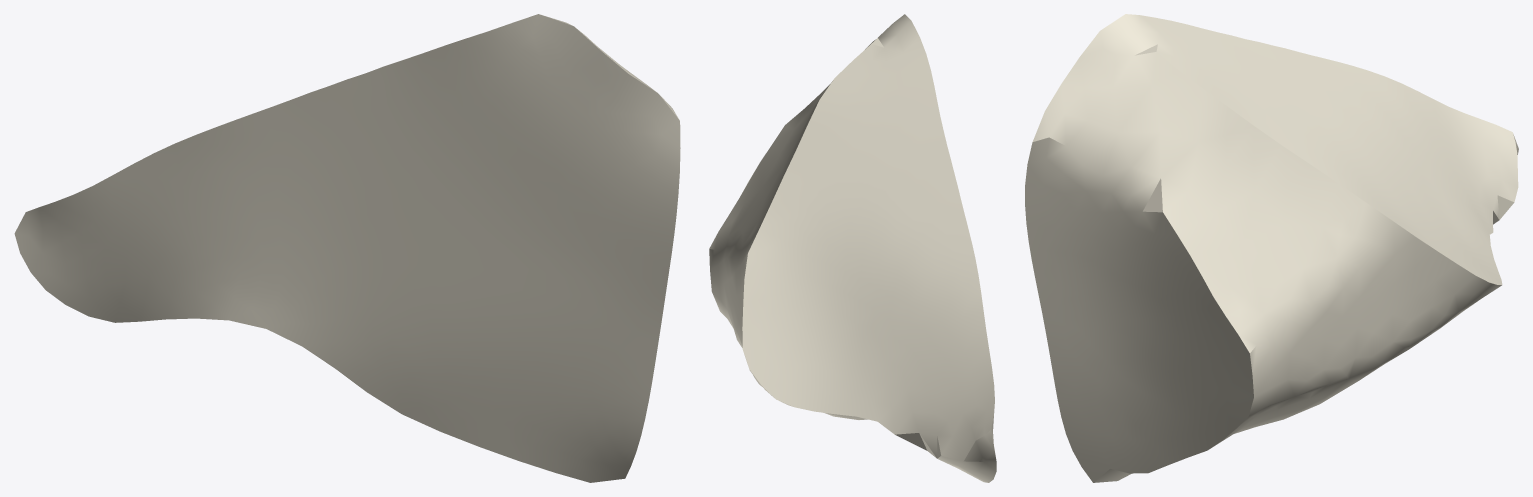
File: fma16333_mm2357.glb
3 renders of one model, left to right at view 1: azimuth 30°, elevation 25°; view 2: azimuth 150°, elevation 25°; view 3: azimuth 270°, elevation 25°, orthographic. The views are drawn at different scales.
Parts seen in each view (by area): view 1: FMA16333_MM2357; view 2: FMA16333_MM2357; view 3: FMA16333_MM2357.
Part boxes in pixels (box(x1,y1,x2,y2)): FMA16333_MM2357: box(14, 14, 680, 482); FMA16333_MM2357: box(709, 14, 996, 482); FMA16333_MM2357: box(1025, 14, 1518, 482).
Bounding box in the file's own units: 0.00964 × 0.0089 × 0.00895.
